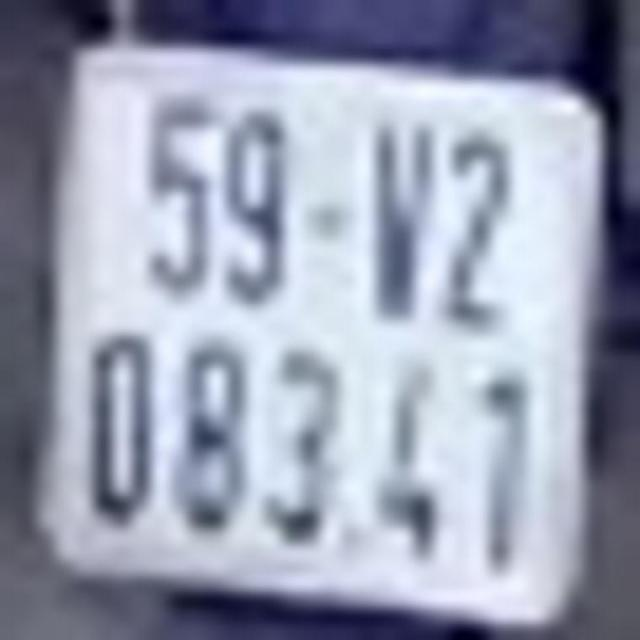0: (86, 331, 151, 527)
2: (449, 131, 514, 328)
3: (259, 346, 343, 541)
4: (371, 349, 448, 562)
5: (148, 99, 216, 295)
7: (468, 369, 528, 575)
8: (174, 338, 248, 537)
9: (222, 109, 288, 308)
V: (373, 116, 437, 319)
